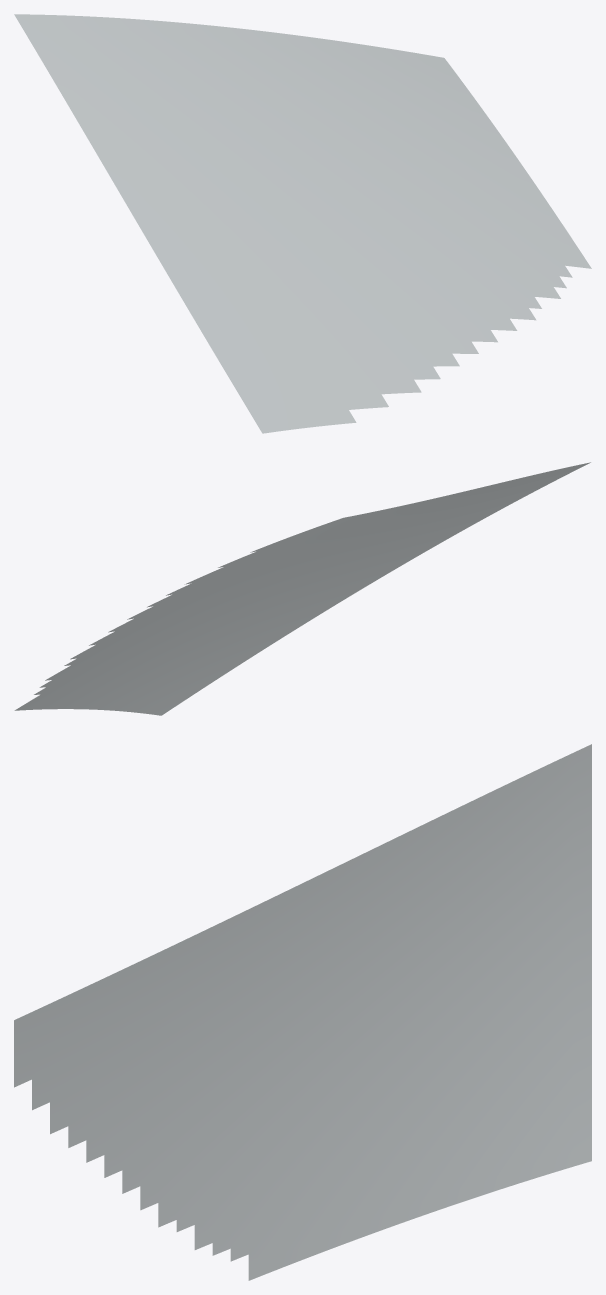
File: alpine-15-11.glb
3 renders of one model, top to bottom at view 1: azimuth 30°, elevation 25°; view 2: azimuth 210°, elevation 25°; view 3: azimuth 270°, elevation 25°, orthographic. The views are drawn at different scales.
Parts seen in each view (by area): view 1: alpine-15-11; view 2: alpine-15-11; view 3: alpine-15-11.
Part boxes in pixels (x1,y1,x2,y2): alpine-15-11: (14, 14, 591, 433); alpine-15-11: (14, 462, 590, 715); alpine-15-11: (14, 744, 591, 1280).
Size of the model in its own units: 256 by 143 by 256.
1 material, 1 textured.
